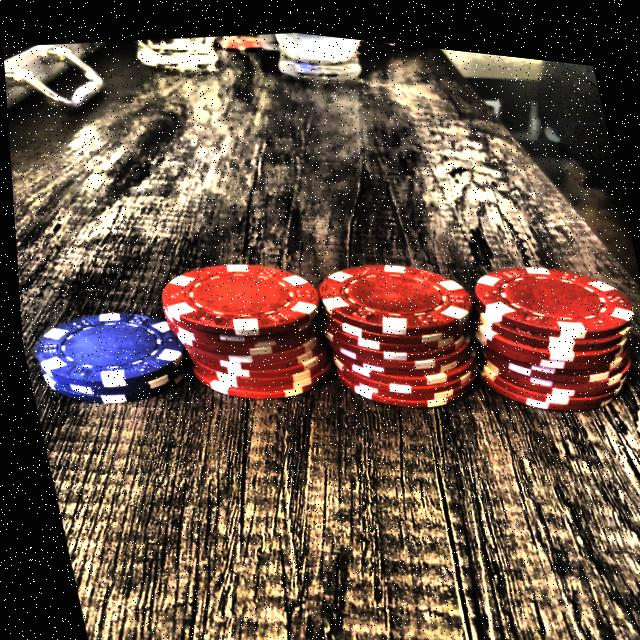Chip: (297, 213, 495, 425), (446, 211, 640, 425), (141, 219, 342, 424), (22, 275, 189, 422), (213, 19, 433, 122)
